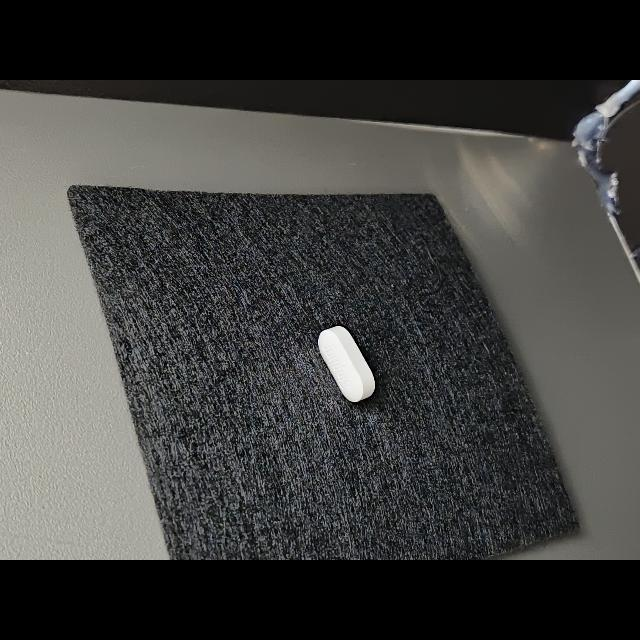Intact Pill: (318, 326, 375, 402)
